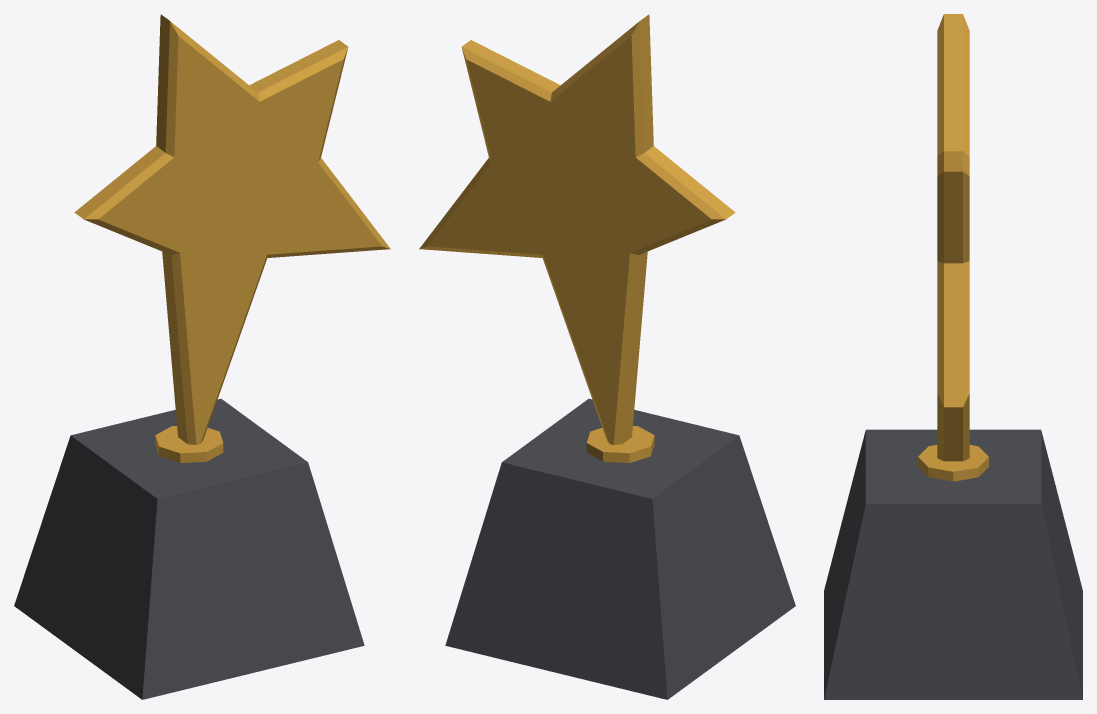
File: Reward_03.fbx
The picture shows the model from 3 angles, left to right: view 1: azimuth 30°, elevation 25°; view 2: azimuth 150°, elevation 25°; view 3: azimuth 270°, elevation 25°; orthographic projection.
Parts seen in each view (by area): view 1: Reward_03; view 2: Reward_03; view 3: Reward_03.
Boxes of the visible parts, bbox=[...] form: Reward_03: bbox=[14, 14, 390, 699]; Reward_03: bbox=[419, 14, 795, 699]; Reward_03: bbox=[824, 14, 1082, 699].
Size of the model in its own units: 19.21 by 36.61 by 13.86.
